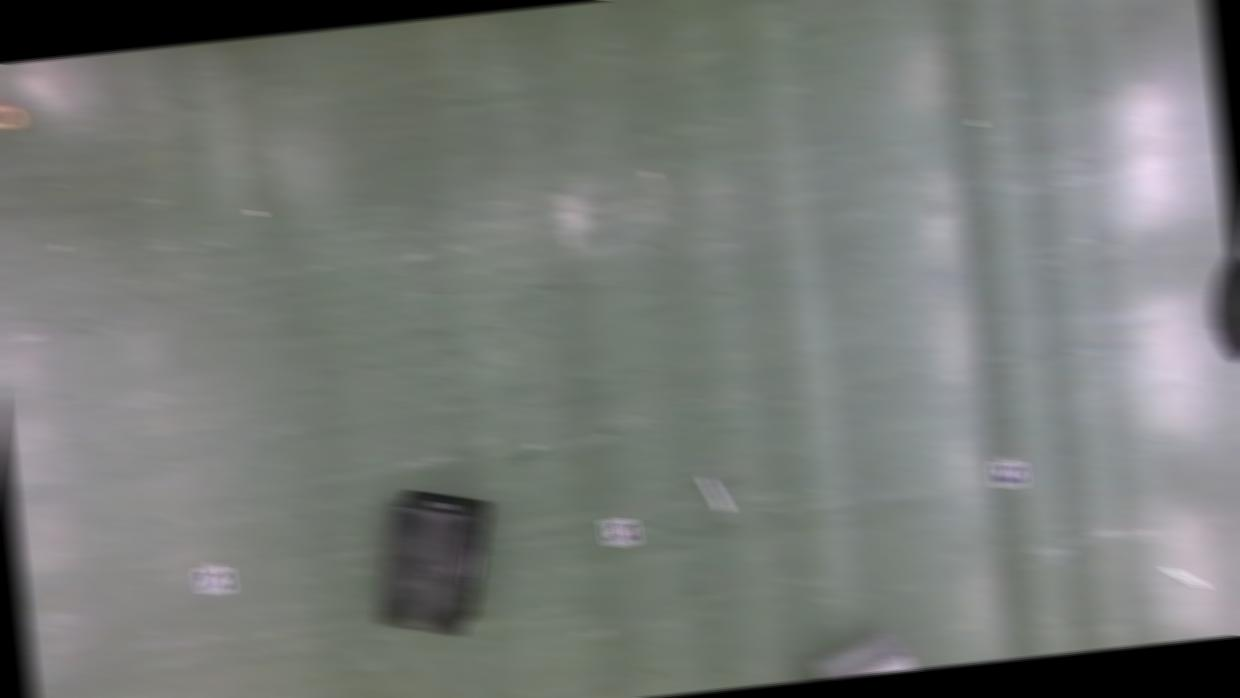probes: (1164, 560, 1208, 591), (702, 471, 731, 510)
rako: (363, 479, 504, 641)
